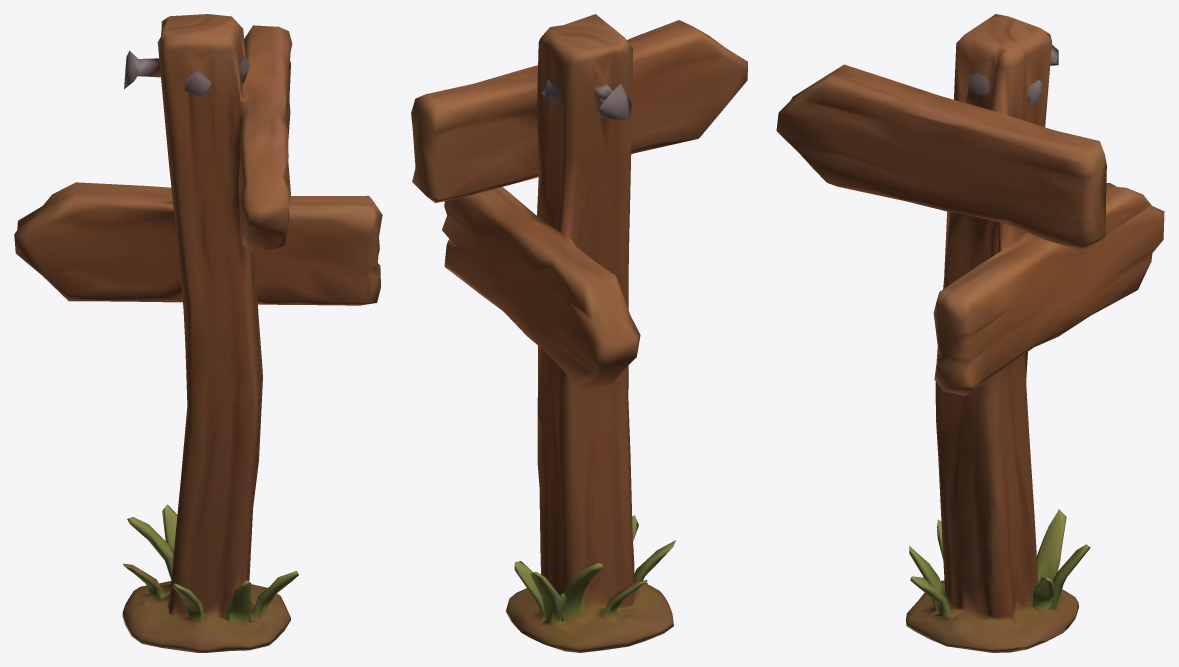
Rendered from pro_sign-2kpVkVT-.glb.
3 views of the same model, side by side, from view 1: azimuth 30°, elevation 25°; view 2: azimuth 150°, elevation 25°; view 3: azimuth 270°, elevation 25° (orthographic).
Visible parts, largest first — view 1: tripo_node_9b201779-580d-4995-a524-92fe28e75be0; view 2: tripo_node_9b201779-580d-4995-a524-92fe28e75be0; view 3: tripo_node_9b201779-580d-4995-a524-92fe28e75be0.
Part boxes in pixels (x1,y1,x2,y2): tripo_node_9b201779-580d-4995-a524-92fe28e75be0: (14,14,382,652); tripo_node_9b201779-580d-4995-a524-92fe28e75be0: (411,14,747,652); tripo_node_9b201779-580d-4995-a524-92fe28e75be0: (776,14,1164,652).
Bounding box in the file's own units: 0.4959 × 1 × 0.5997.
1 material, 1 textured.
